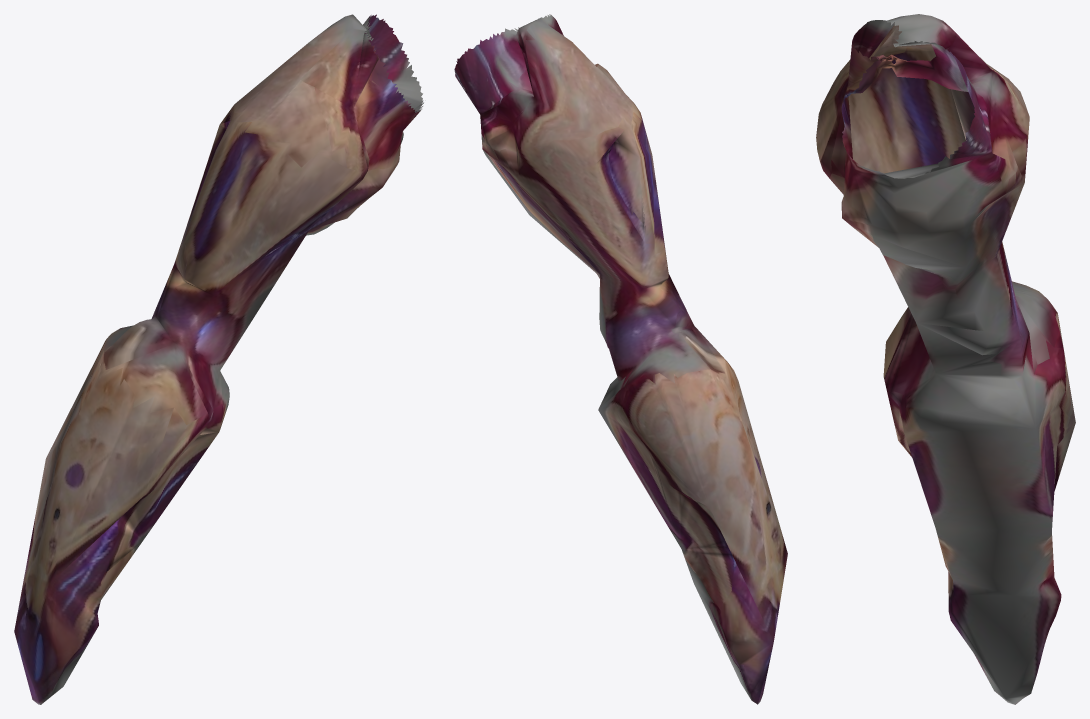
The model's file is Alien_PataIzq.obj.
The picture shows the model from 3 angles, left to right: view 1: azimuth 30°, elevation 25°; view 2: azimuth 150°, elevation 25°; view 3: azimuth 270°, elevation 25°; orthographic projection. The views are drawn at different scales.
Visible parts, largest first — view 1: PataIzq; view 2: PataIzq; view 3: PataIzq.
Part boxes in pixels (left/top/right/bottom): PataIzq: left=14, top=14, right=423, bottom=704; PataIzq: left=454, top=14, right=787, bottom=704; PataIzq: left=816, top=14, right=1075, bottom=704.
Size of the model in its own units: 0.3013 by 0.5024 by 0.1353.
